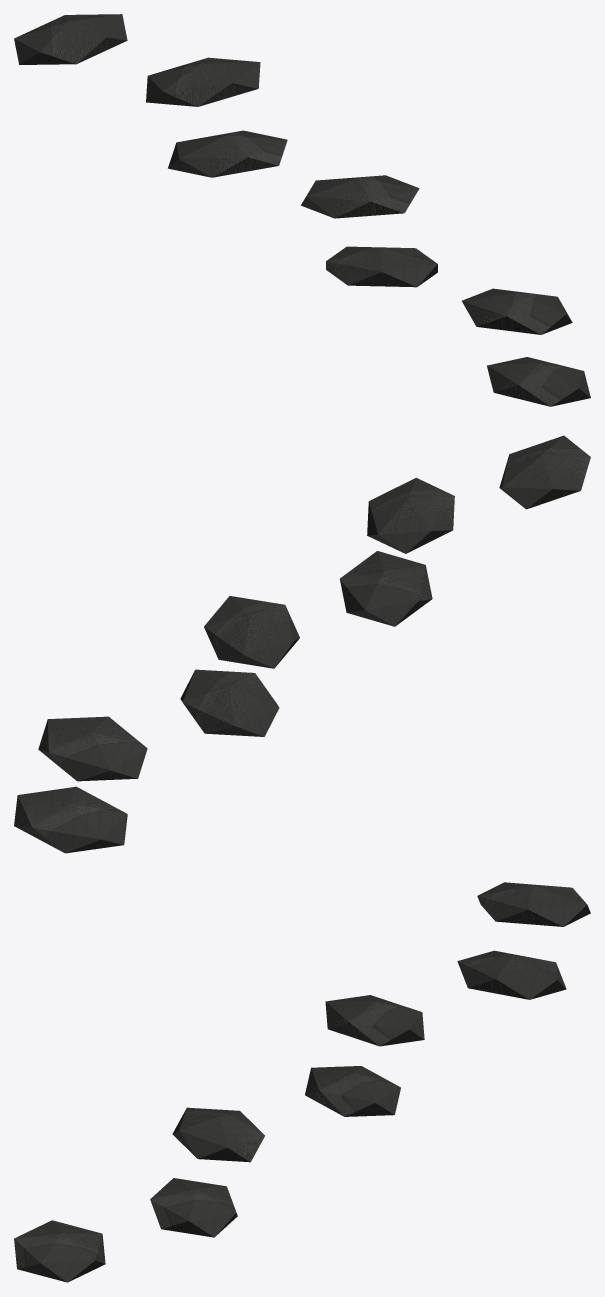
The model's file is central_ford.glb.
3 renders of one model, top to bottom at view 1: azimuth 30°, elevation 25°; view 2: azimuth 150°, elevation 25°; view 3: azimuth 330°, elevation 25°, orthographic.
Parts seen in each view (by area): view 1: central_ford; view 2: central_ford; view 3: central_ford.
Boxes of the visible parts, bbox=[...] form: central_ford: bbox=[14, 14, 590, 406]; central_ford: bbox=[14, 435, 590, 853]; central_ford: bbox=[14, 882, 590, 1282].
Bounding box in the file's own units: 1.66 × 0.3617 × 9.43.
1 material, 1 textured.
